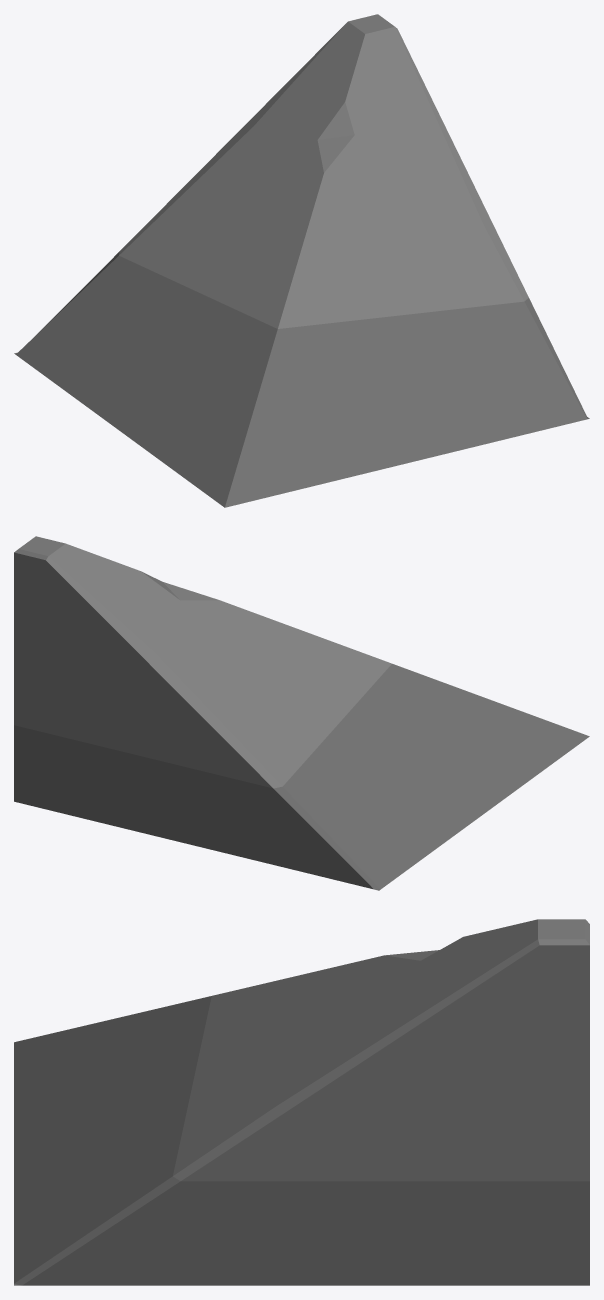
Rendered from SM_Envr_Canal_Corner_01.fbx.
3 views of the same model, one above another, from view 1: azimuth 30°, elevation 25°; view 2: azimuth 150°, elevation 25°; view 3: azimuth 270°, elevation 25° (orthographic). The views are drawn at different scales.
Visible parts, largest first — view 1: SM_Envr_Canal_Corner_01; view 2: SM_Envr_Canal_Corner_01; view 3: SM_Envr_Canal_Corner_01.
Part boxes in pixels (x1=…): SM_Envr_Canal_Corner_01: x1=14, y1=14, x2=589, y2=507; SM_Envr_Canal_Corner_01: x1=14, y1=536, x2=589, y2=890; SM_Envr_Canal_Corner_01: x1=14, y1=919, x2=589, y2=1285.
Bounding box in the file's own units: 500 × 330 × 500.
